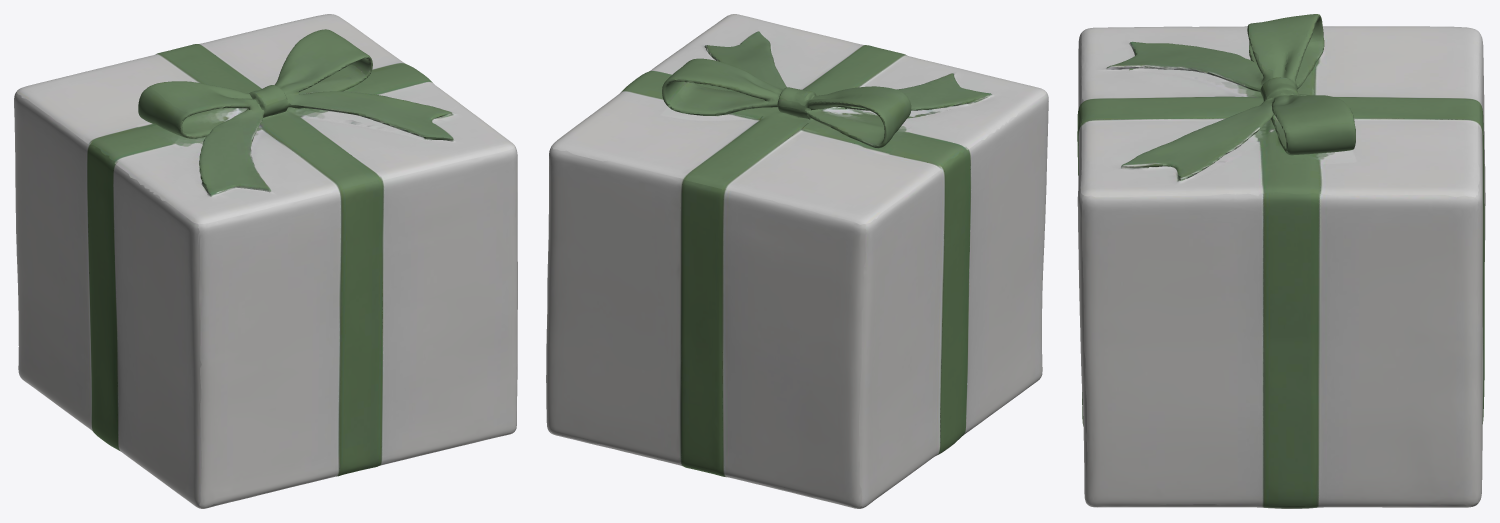
File: gift-box.glb
3 renders of one model, left to right at view 1: azimuth 30°, elevation 25°; view 2: azimuth 150°, elevation 25°; view 3: azimuth 270°, elevation 25°, orthographic. The views are drawn at different scales.
Parts seen in each view (by area): view 1: textured_mesh.obj; view 2: textured_mesh.obj; view 3: textured_mesh.obj.
Boxes of the visible parts, x1=… form: textured_mesh.obj: x1=14, y1=14, x2=517, y2=508; textured_mesh.obj: x1=546, y1=14, x2=1048, y2=508; textured_mesh.obj: x1=1077, y1=14, x2=1485, y2=508.
Size of the model in its own units: 1.98 by 1.94 by 1.98.
Materials: 1 (1 with a texture image).
